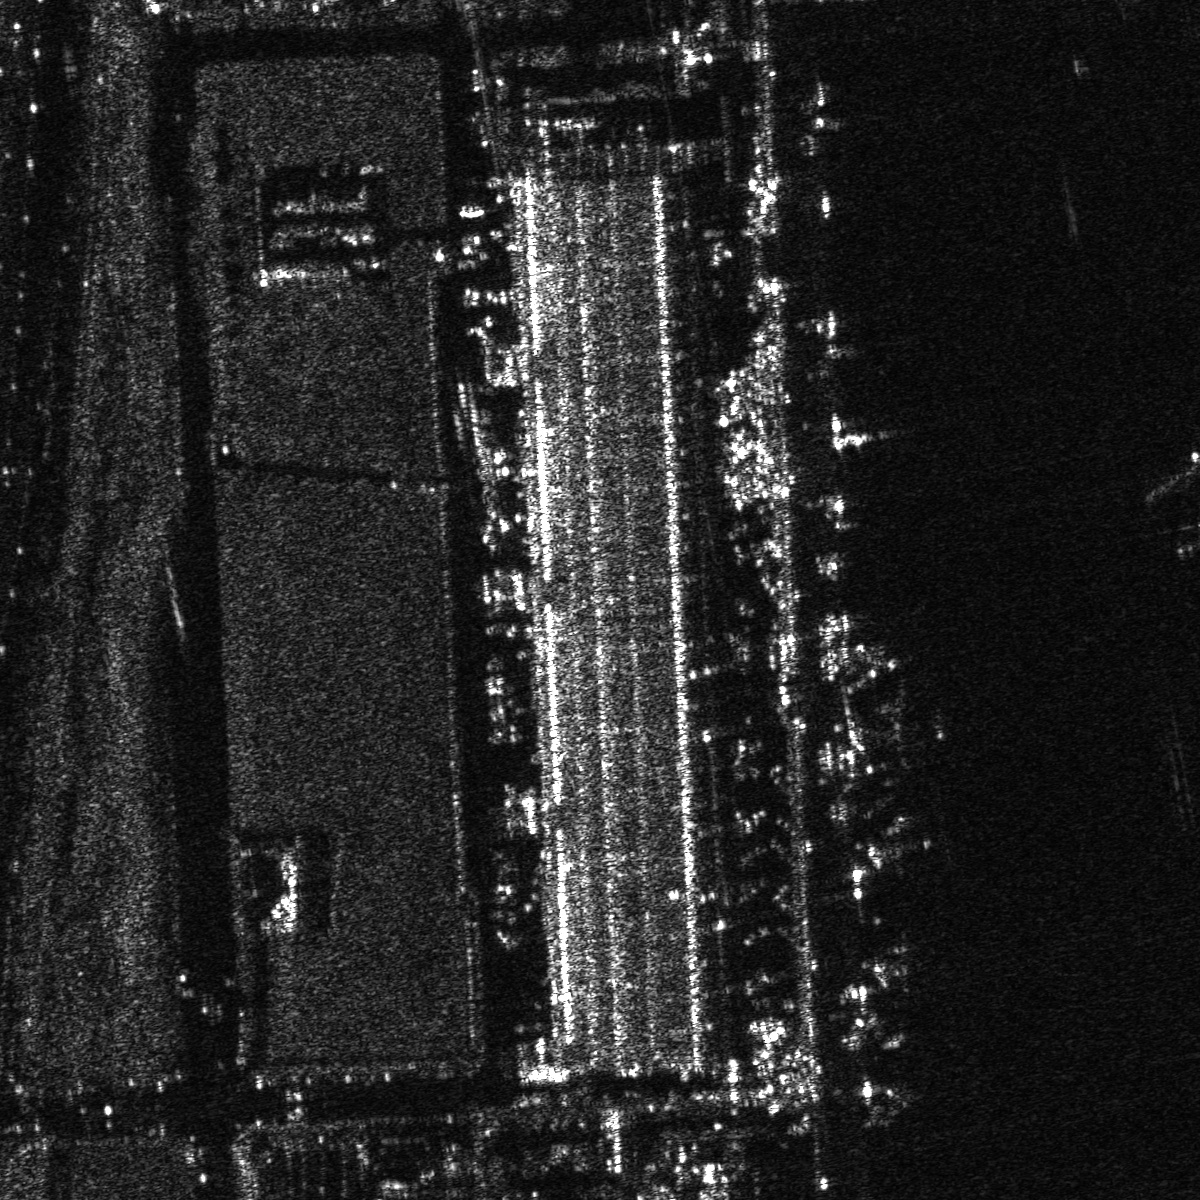A220: (845, 686, 952, 773)
other: (847, 805, 938, 873), (857, 927, 938, 993)
